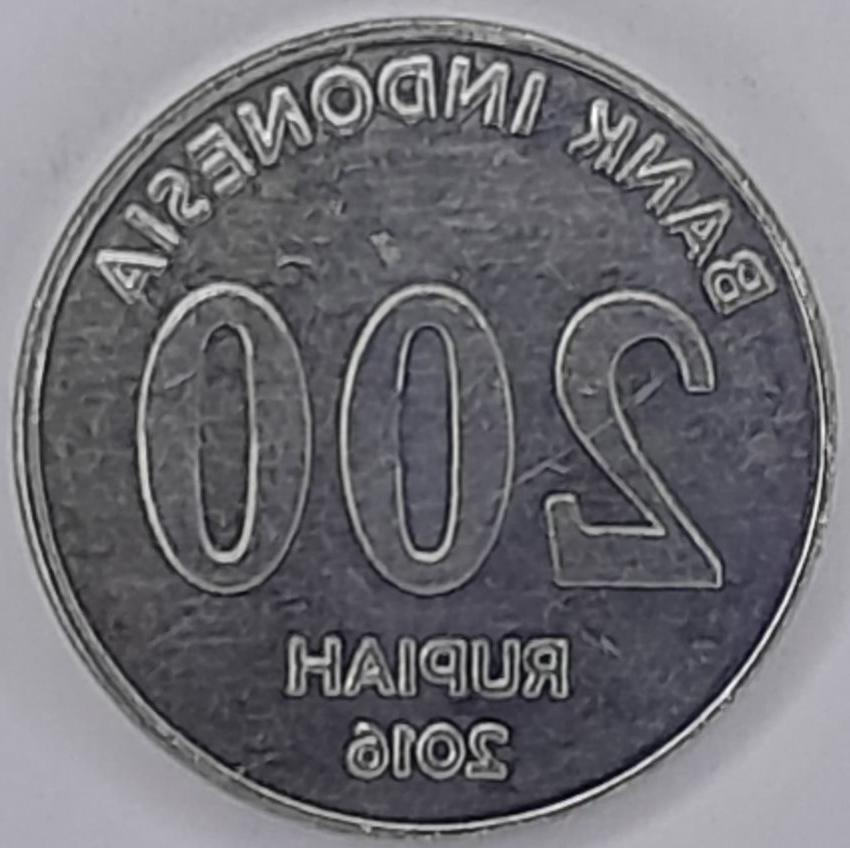coin_200_e2016: (0, 15, 850, 848)
